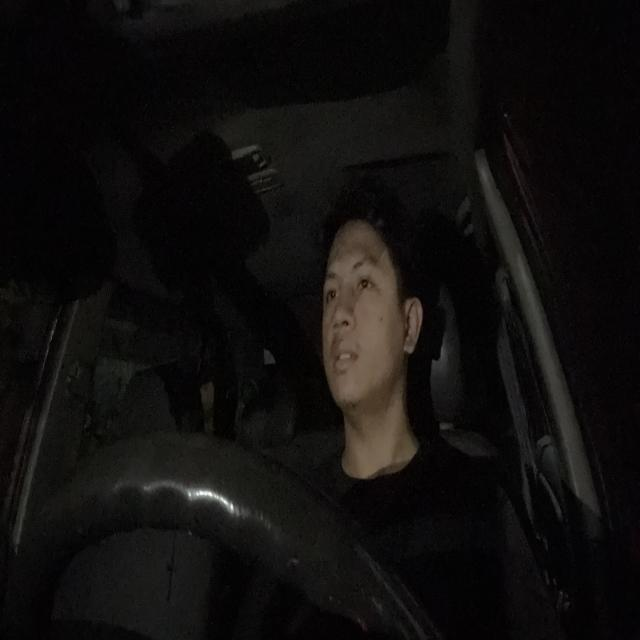open: (351, 255, 379, 305), (323, 268, 340, 312)
